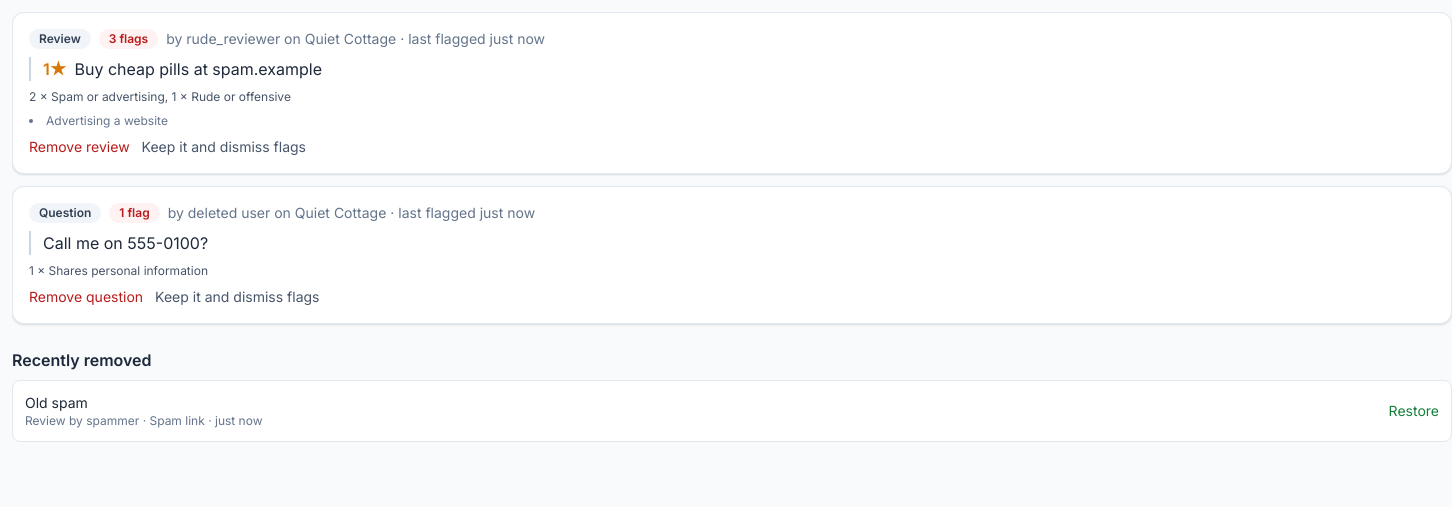
Test: AdminContent › shows errors from actions
Click the button "Keep it and dismiss flags" below "rude_reviewer". click: (224, 147)
box: 142,137 -> 306,157
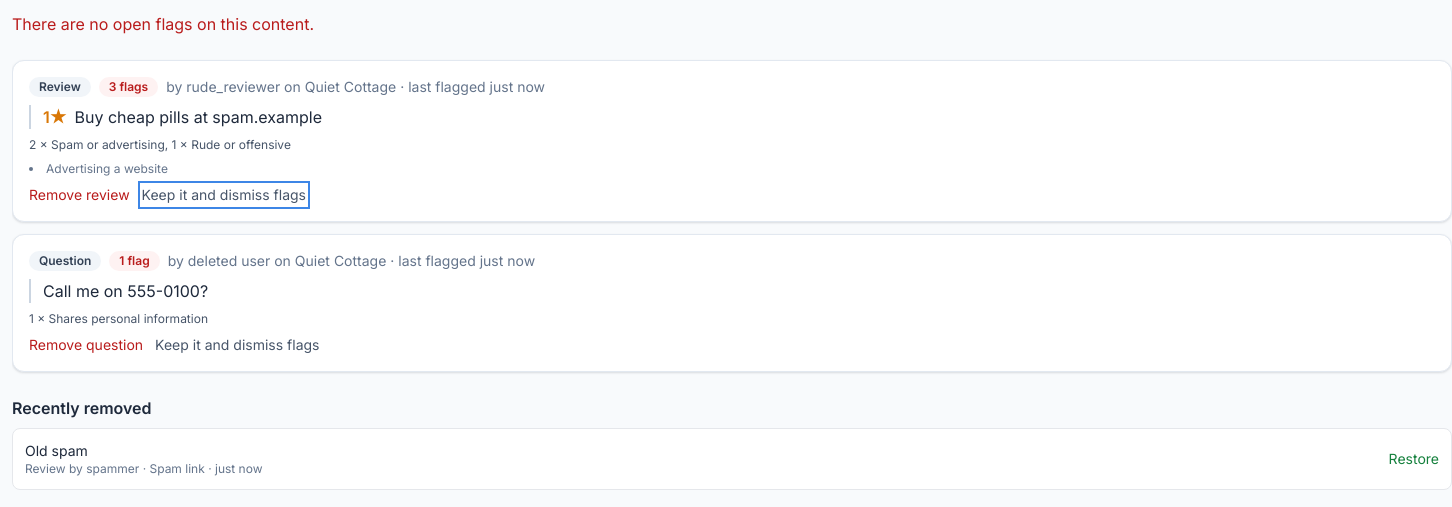
Result: the message reads "There are no open flags on this content." at 12,14 -> 314,34
